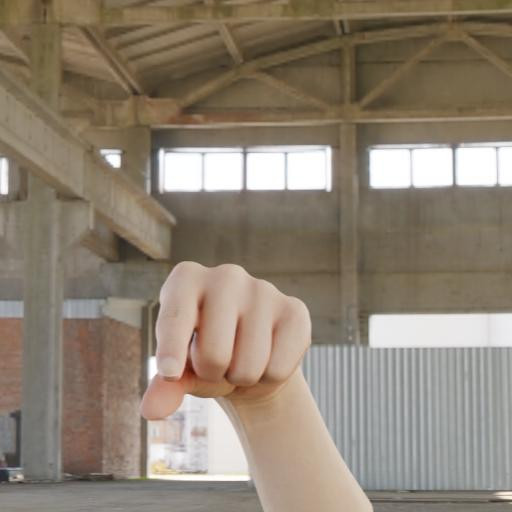Q: (132, 255, 325, 452)
